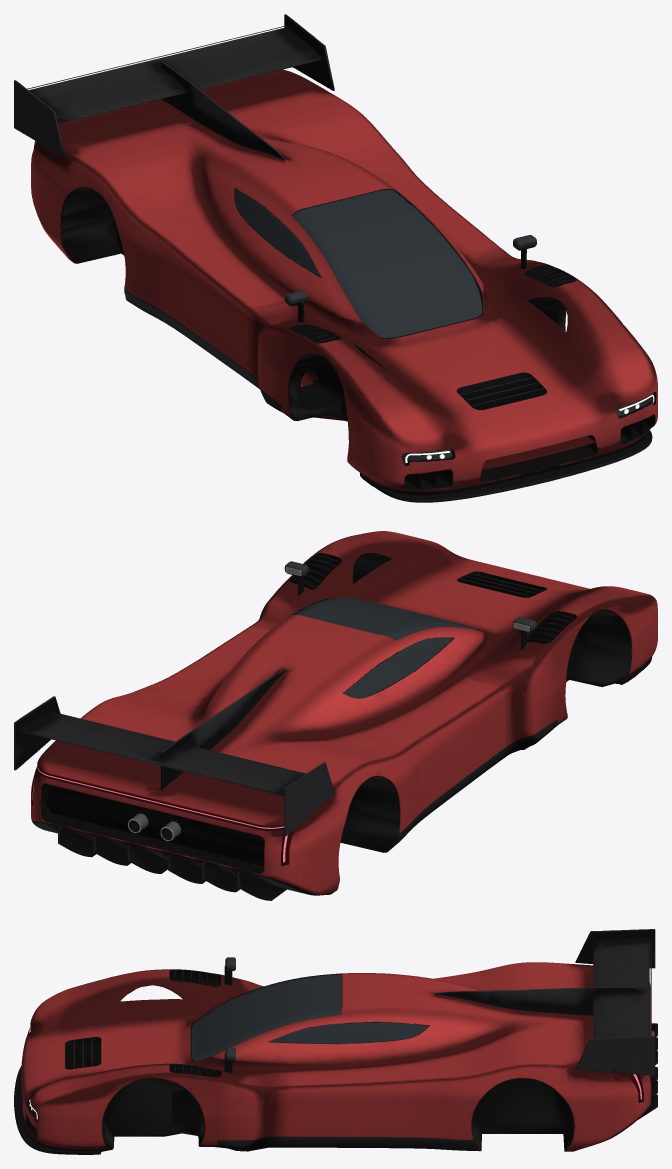
File: specter.glb
3 views of the same model, one above another, from view 1: azimuth 30°, elevation 25°; view 2: azimuth 150°, elevation 25°; view 3: azimuth 270°, elevation 25° (orthographic). The views are drawn at different scales.
Parts seen in each view (by area): view 1: paint, carbon, window, trim; view 2: paint, carbon, trim, grille, window, tail, chrome, tailglow; view 3: paint, carbon, trim, window, grille.
Part boxes in pixels (x1,y1,x2,y2): paint: (31, 69, 657, 492); carbon: (14, 14, 652, 502); window: (235, 188, 482, 338); trim: (33, 140, 656, 489); paint: (31, 531, 657, 894); carbon: (14, 554, 651, 900); trim: (31, 553, 631, 873); grille: (47, 560, 570, 866); window: (296, 597, 476, 698); tail: (39, 768, 294, 863); chrome: (128, 567, 529, 841); tailglow: (32, 767, 287, 862); paint: (21, 962, 651, 1151); carbon: (14, 929, 657, 1154); trim: (22, 969, 656, 1151); window: (191, 974, 428, 1061); grille: (65, 974, 220, 1077).
Size of what is drawn, in the model's own units: 2.09 by 1.04 by 5.05.
